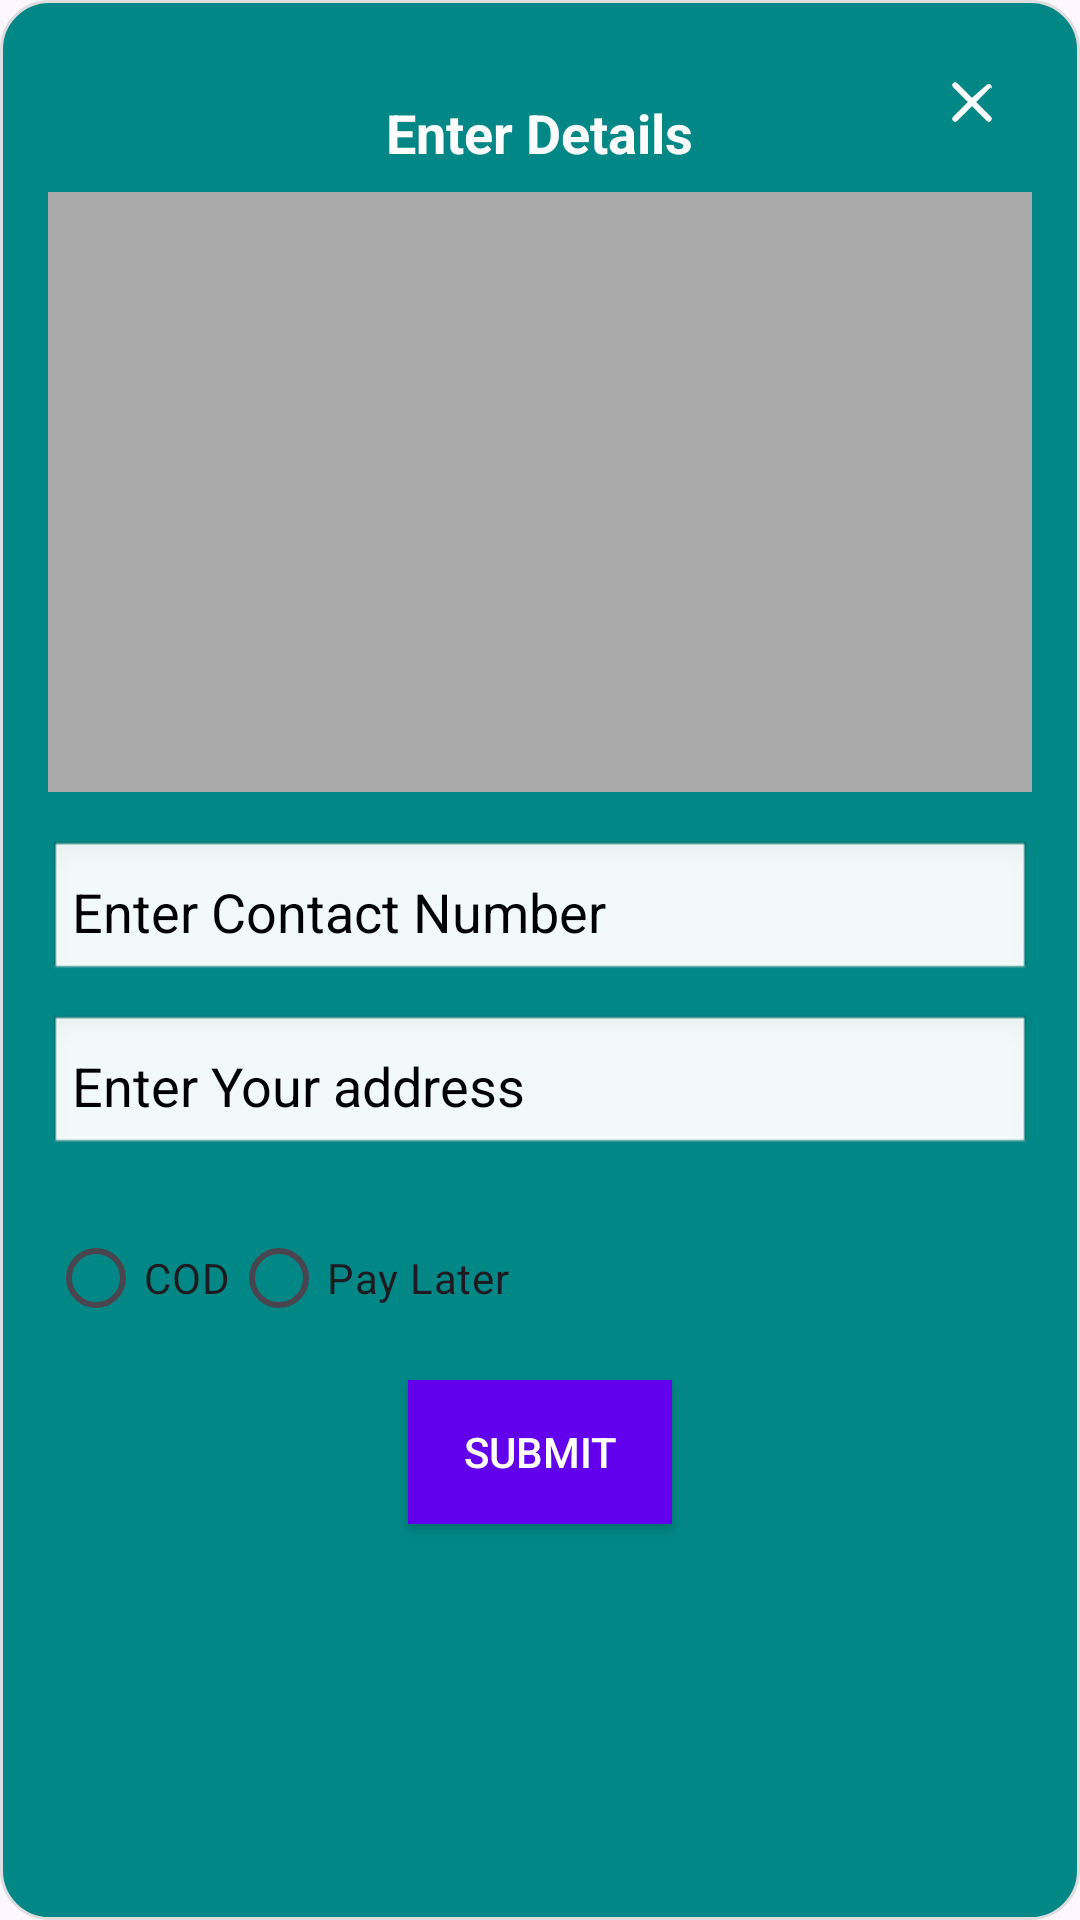

Icons on this 1080*1920 Android screen, each with the point to tap as (x,y):
Close: (972,102)
